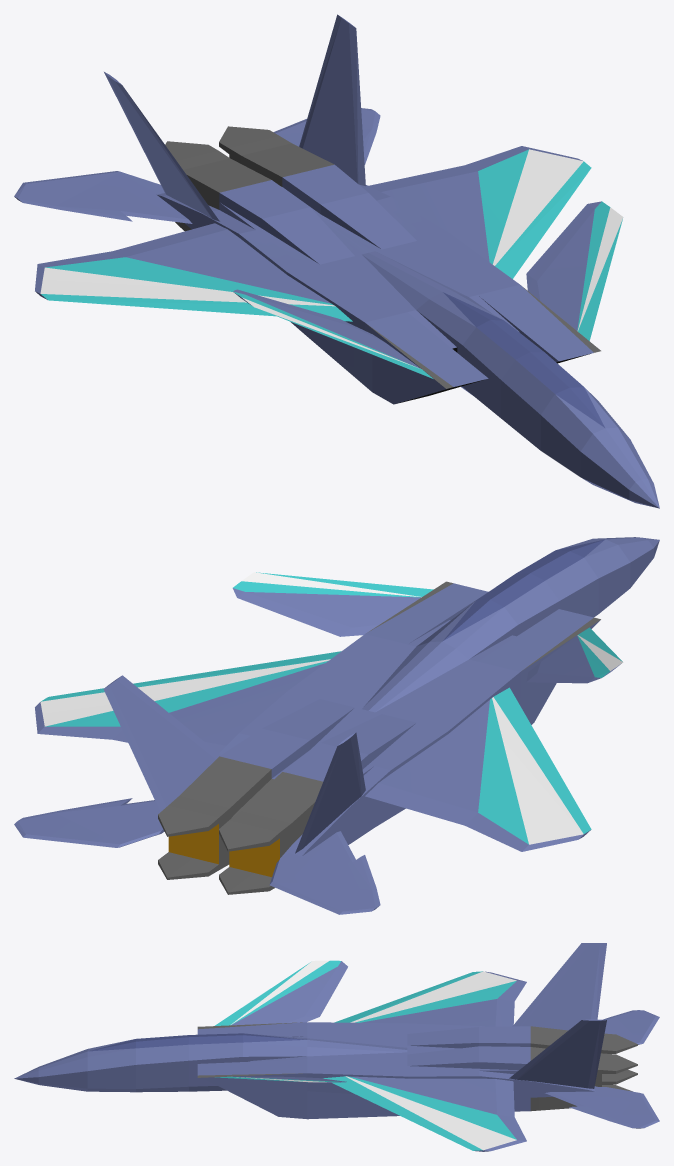
The model's file is F15Actived.obj.
3 views of the same model, one above another, from view 1: azimuth 30°, elevation 25°; view 2: azimuth 150°, elevation 25°; view 3: azimuth 270°, elevation 25° (orthographic). The views are drawn at different scales.
Parts seen in each view (by area): view 1: Cube.016, Cube.014, Cube.020, Cube.019, Cube.017; view 2: Cube.016, Cube.014, Cube.017, Cube.020, Cube.019; view 3: Cube.016, Cube.014, Cube.019, Cube.020, Cube.017.
Part boxes in pixels (x1,y1,x2,y2): Cube.016: (157, 126, 659, 508); Cube.014: (35, 146, 591, 321); Cube.020: (233, 201, 623, 378); Cube.019: (104, 14, 365, 221); Cube.017: (14, 108, 380, 223); Cube.016: (157, 537, 659, 894); Cube.014: (35, 651, 591, 851); Cube.017: (14, 798, 380, 914); Cube.020: (232, 572, 623, 683); Cube.019: (103, 675, 365, 853); Cube.016: (14, 1022, 637, 1119); Cube.014: (323, 971, 526, 1151); Cube.019: (509, 943, 606, 1088); Cube.020: (215, 960, 347, 1082); Cube.017: (545, 1010, 659, 1128).
Bounding box in the file's own units: 17.21 × 5.15 × 26.26.
